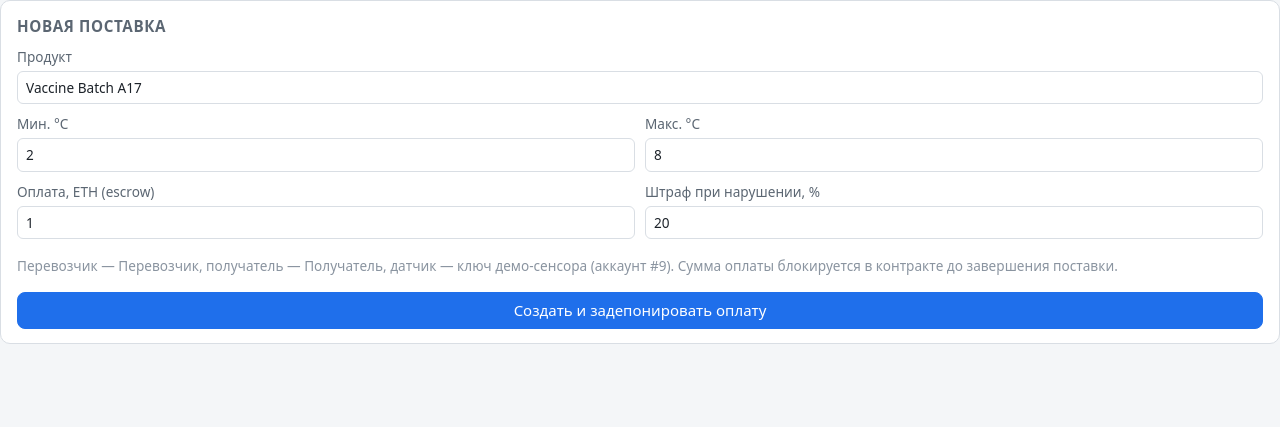
Test case: CreateShipmentForm › shows validation instead of submitting
Replace the text in the number field labelled "Мин. °C" with "10". click: point(326, 155)
box: [17,138,635,172]
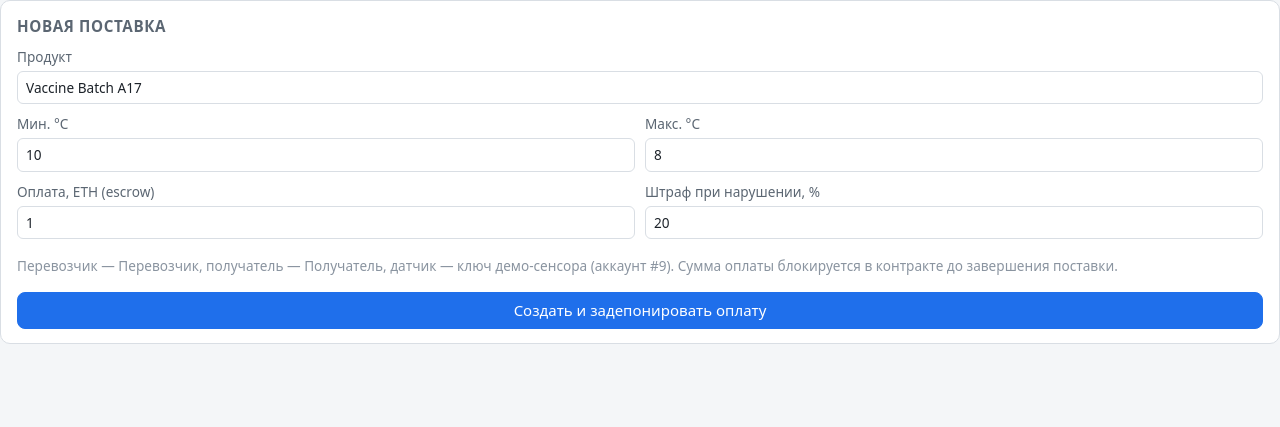
Submit the form named "Создать"
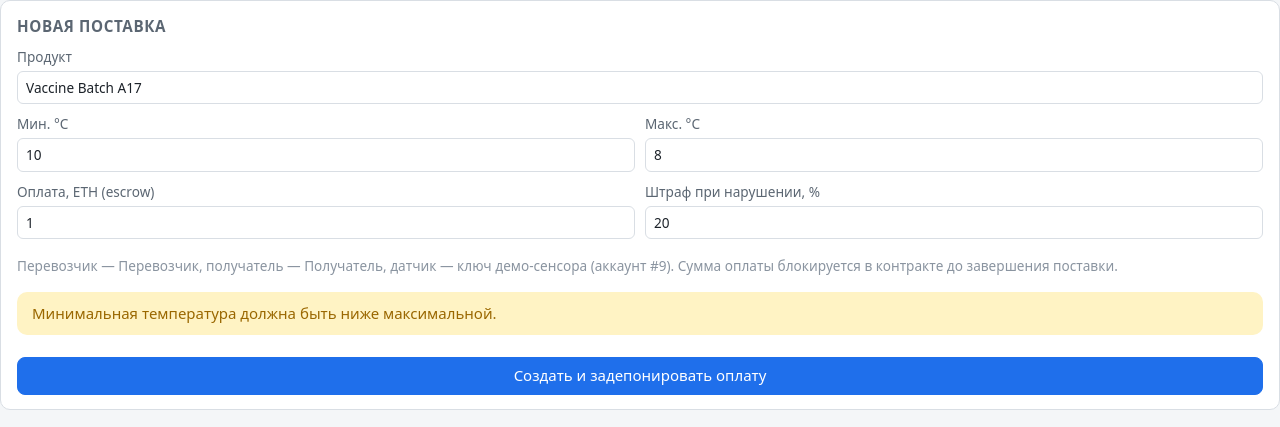
Expected: the text "Минимальная температура должна быть ниже максимальной." is shown, [17,292,1263,336]
